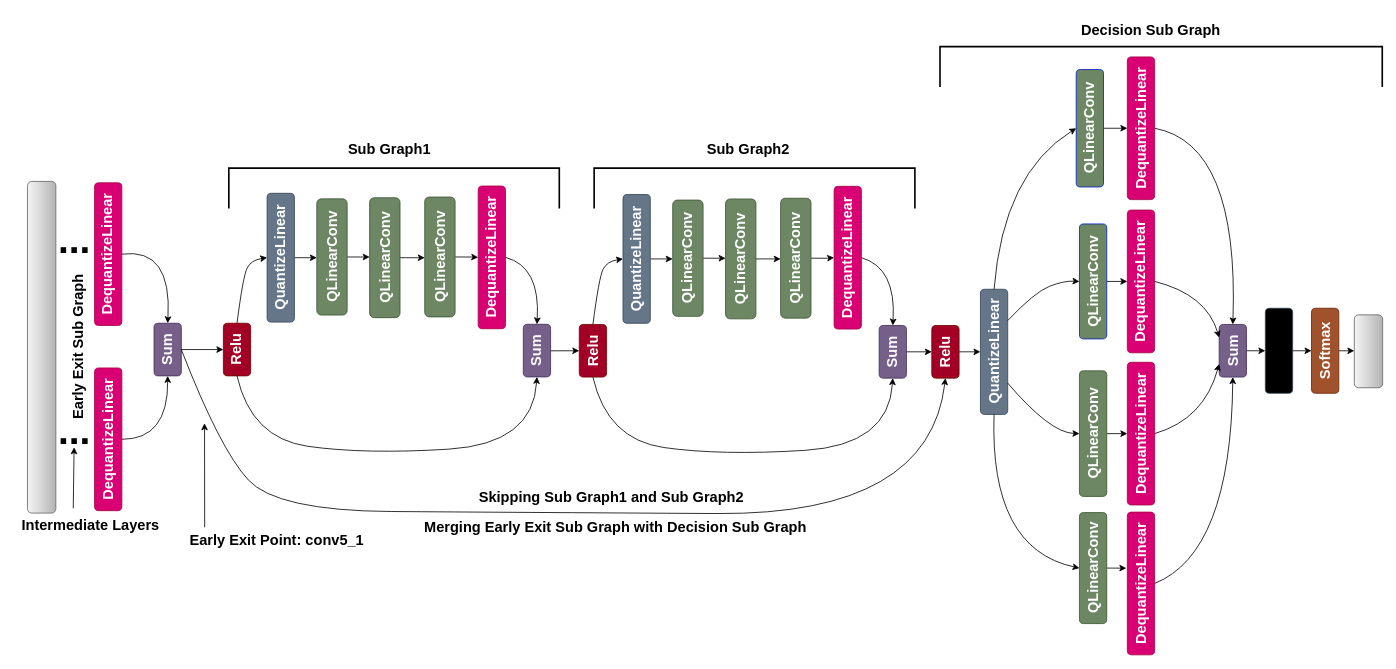
This 1396x669 diagram has some shape labels left out. Each missing label, with the centre of its shape:
Input: point (41, 347)
Output: point (1368, 351)
Reshape: point (1279, 350)
